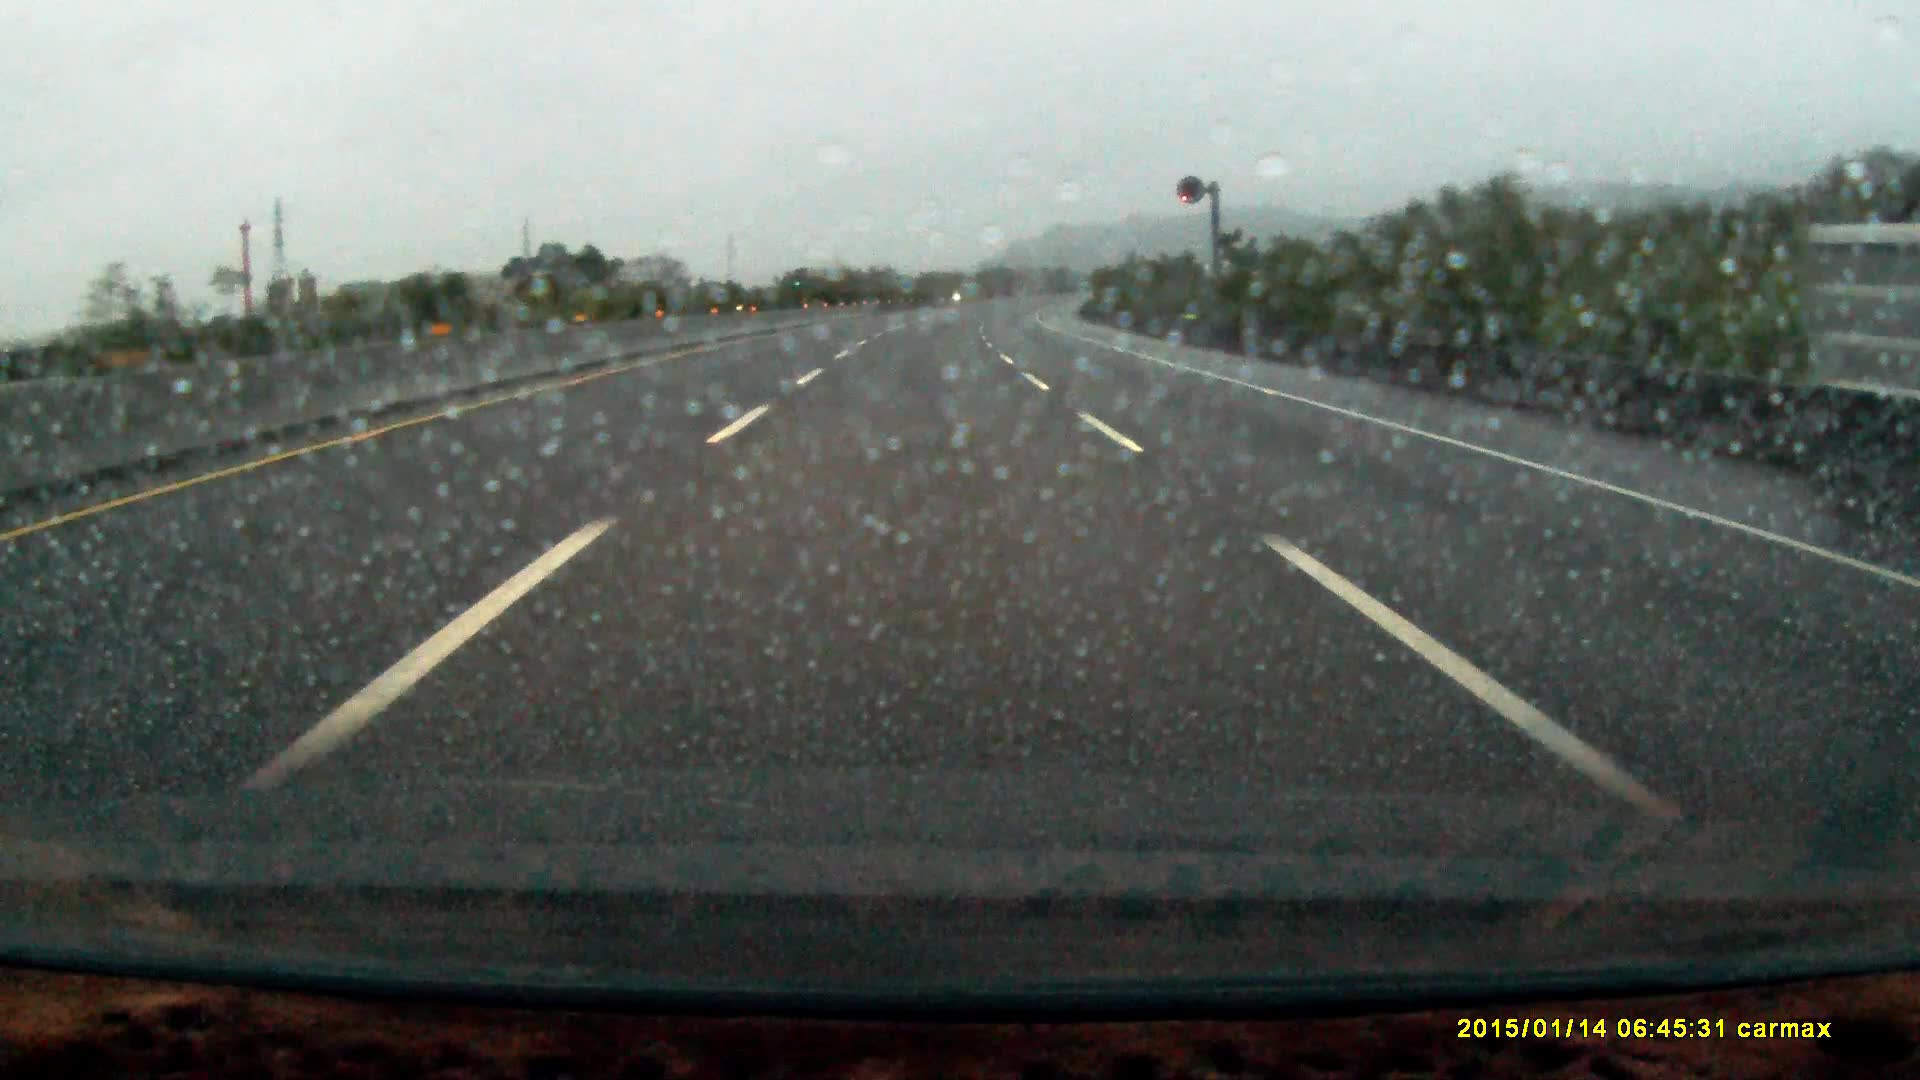vehicle: (790, 266, 831, 306)
